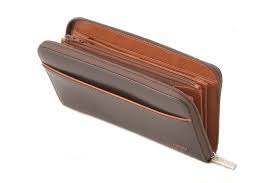monedero: (37, 17, 238, 171)
